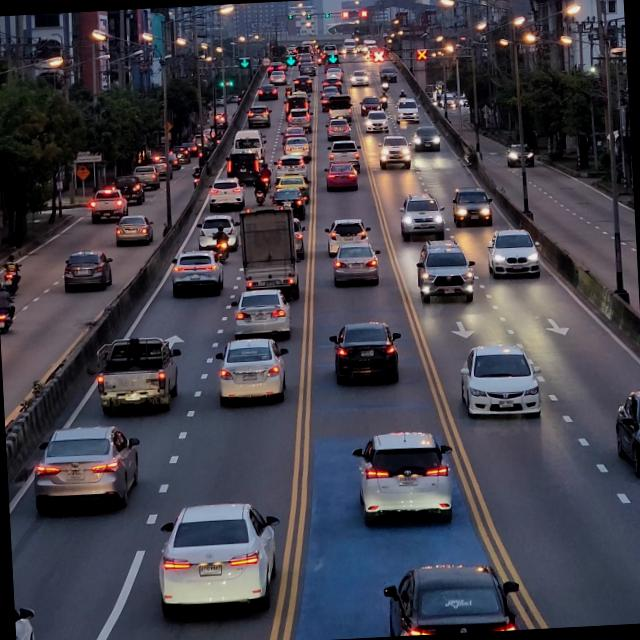Vehicle: (152, 493, 292, 622), (348, 418, 454, 530), (381, 557, 526, 637), (31, 422, 148, 518), (97, 330, 185, 418), (456, 344, 546, 424), (238, 204, 302, 302), (329, 319, 408, 396), (213, 338, 294, 406), (414, 240, 480, 306), (228, 288, 298, 338), (486, 226, 544, 284), (170, 249, 228, 297), (614, 385, 640, 486), (396, 192, 448, 242), (332, 240, 384, 288), (66, 250, 115, 292), (448, 185, 497, 227), (114, 213, 155, 250)
